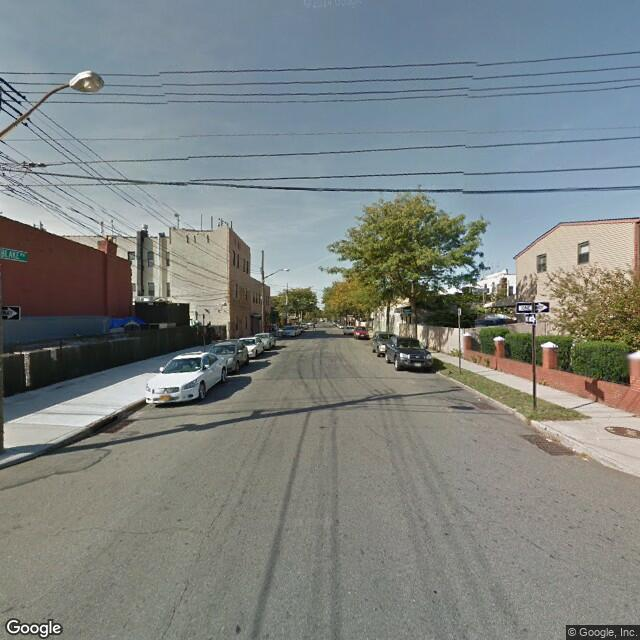litter: (475, 397, 486, 406), (546, 437, 557, 444), (496, 394, 507, 401), (583, 456, 590, 463), (570, 447, 578, 453)
